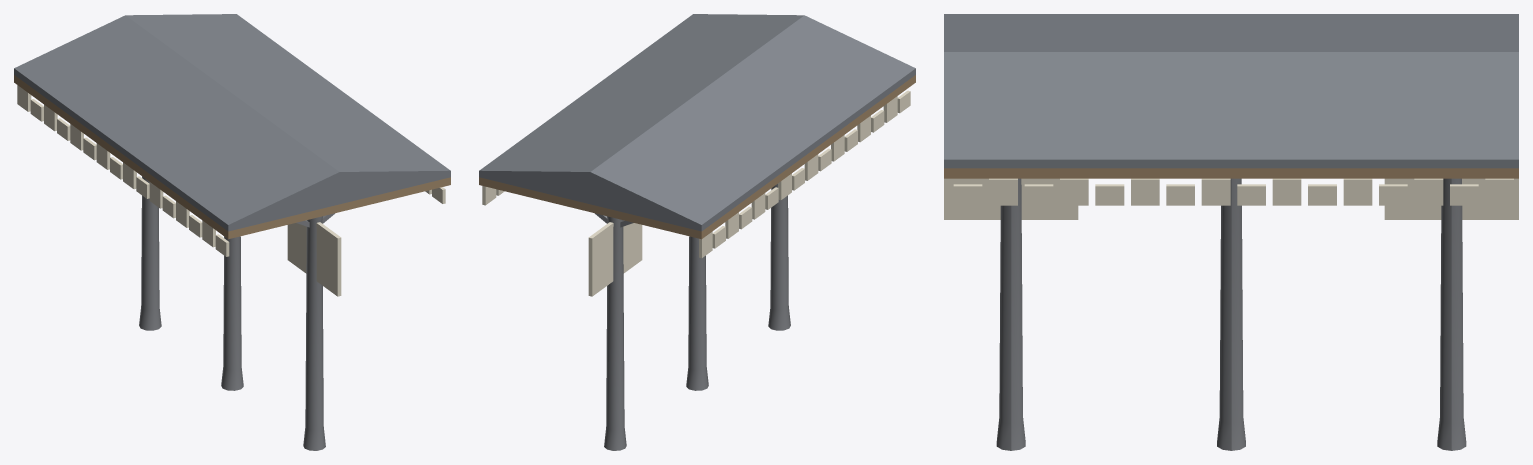
File: steam-era-railway-and-rolling-stock-platform-canopy-89c3608f.glb
3 renders of one model, left to right at view 1: azimuth 30°, elevation 25°; view 2: azimuth 150°, elevation 25°; view 3: azimuth 270°, elevation 25°, orthographic. The views are drawn at different scales.
Visible parts, largest first — view 1: platform-canopy; view 2: platform-canopy; view 3: platform-canopy.
Part boxes in pixels (bbox=[...]): platform-canopy: bbox=[14, 14, 450, 450]; platform-canopy: bbox=[479, 14, 915, 450]; platform-canopy: bbox=[944, 14, 1518, 450].
Size of the model in its own units: 3.6 by 4.52 by 6.
